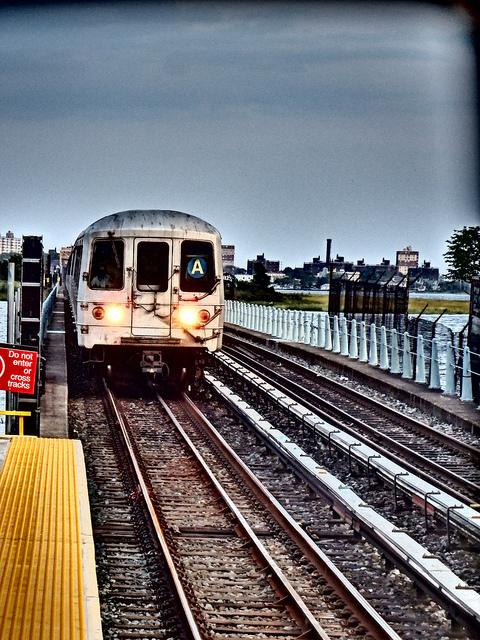Train: (64, 212, 227, 396)
